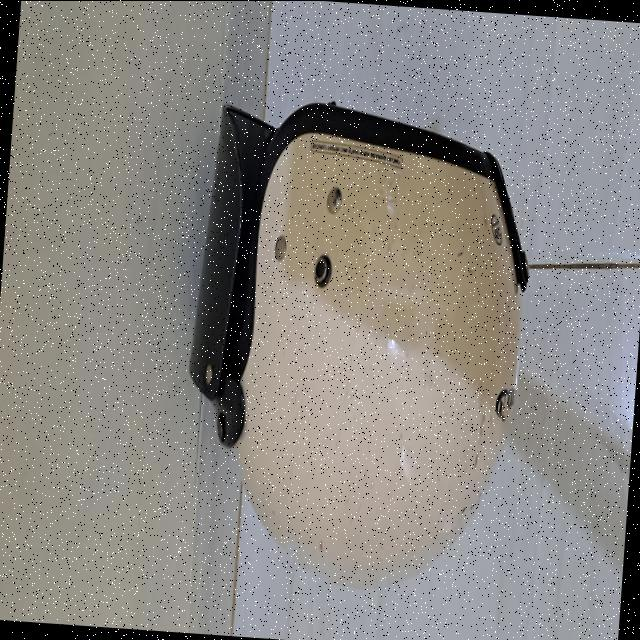Helm: (158, 77, 550, 619)
